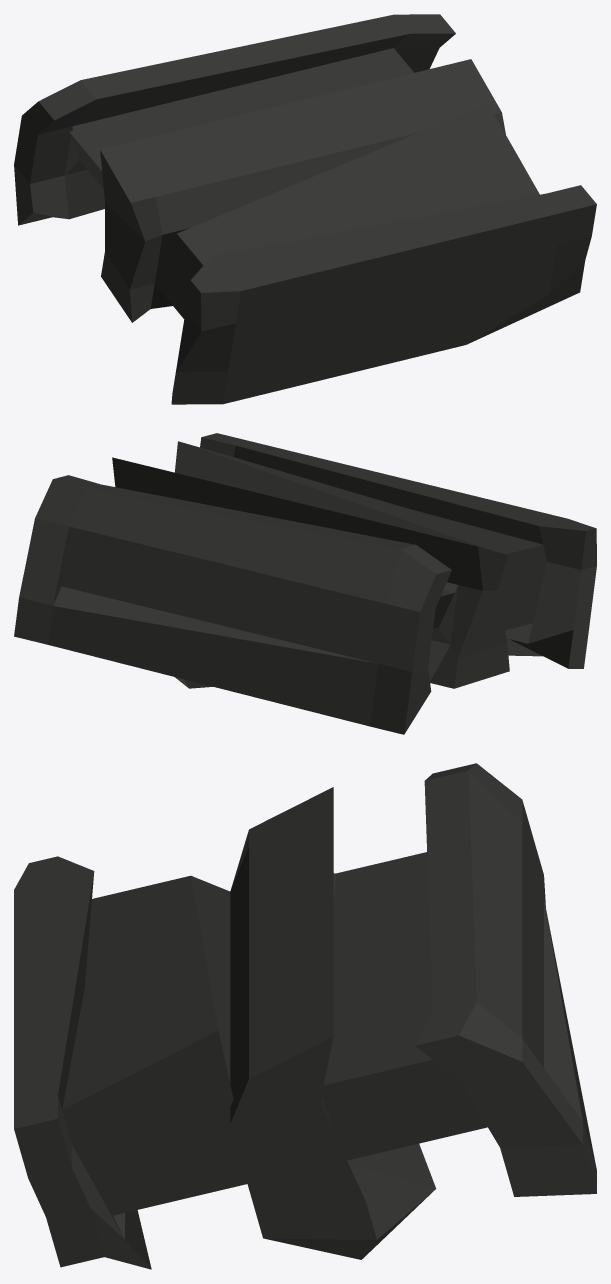
Rendered from Sucata01.fbx.
3 views of the same model, one above another, from view 1: azimuth 30°, elevation 25°; view 2: azimuth 150°, elevation 25°; view 3: azimuth 270°, elevation 25° (orthographic). The views are drawn at different scales.
Visible parts, largest first — view 1: Cube; view 2: Cube; view 3: Cube.
Boxes of the visible parts, box(x1,y1,x2,y2) form: Cube: box(14, 14, 596, 404); Cube: box(14, 433, 596, 734); Cube: box(14, 763, 596, 1269).
Size of the model in its own units: 251 by 146 by 228.
